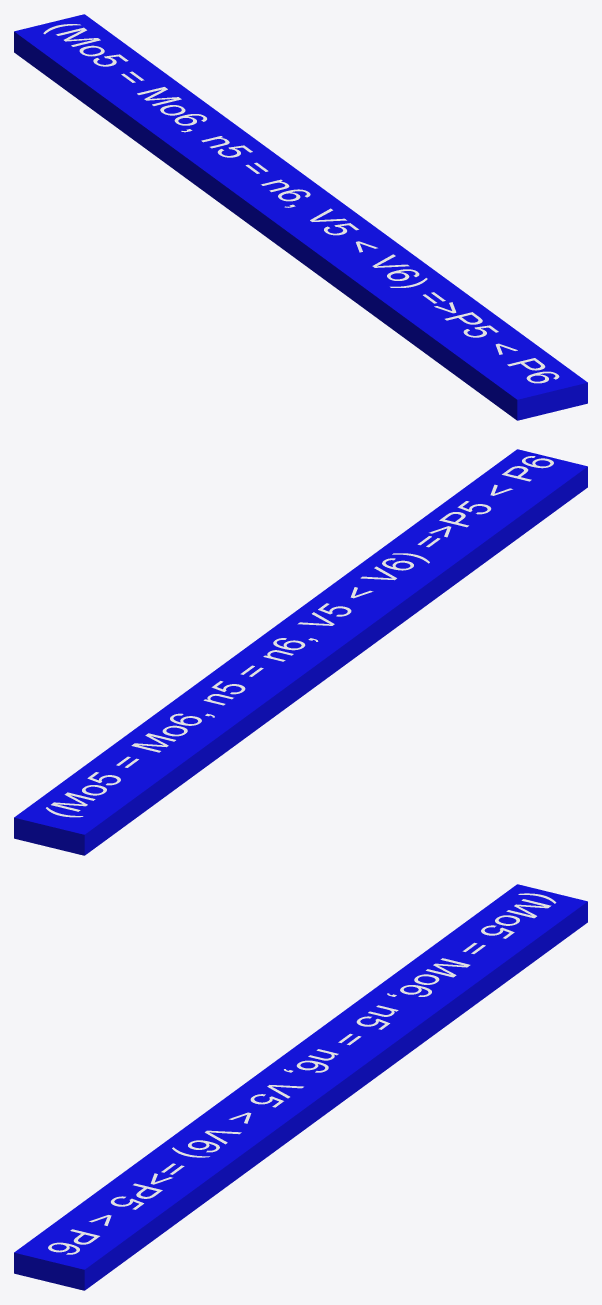
Rendered from spped1.FBX.
The picture shows the model from 3 angles, top to bottom: view 1: azimuth 30°, elevation 25°; view 2: azimuth 150°, elevation 25°; view 3: azimuth 330°, elevation 25°; orthographic projection.
Parts seen in each view (by area): view 1: Text002; view 2: Text002; view 3: Text002.
Boxes of the visible parts, x1=… form: Text002: x1=14, y1=14, x2=587, y2=420; Text002: x1=14, y1=449, x2=587, y2=855; Text002: x1=14, y1=884, x2=587, y2=1290.
Bounding box in the file's own units: 24.39 × 8.28 × 301.
